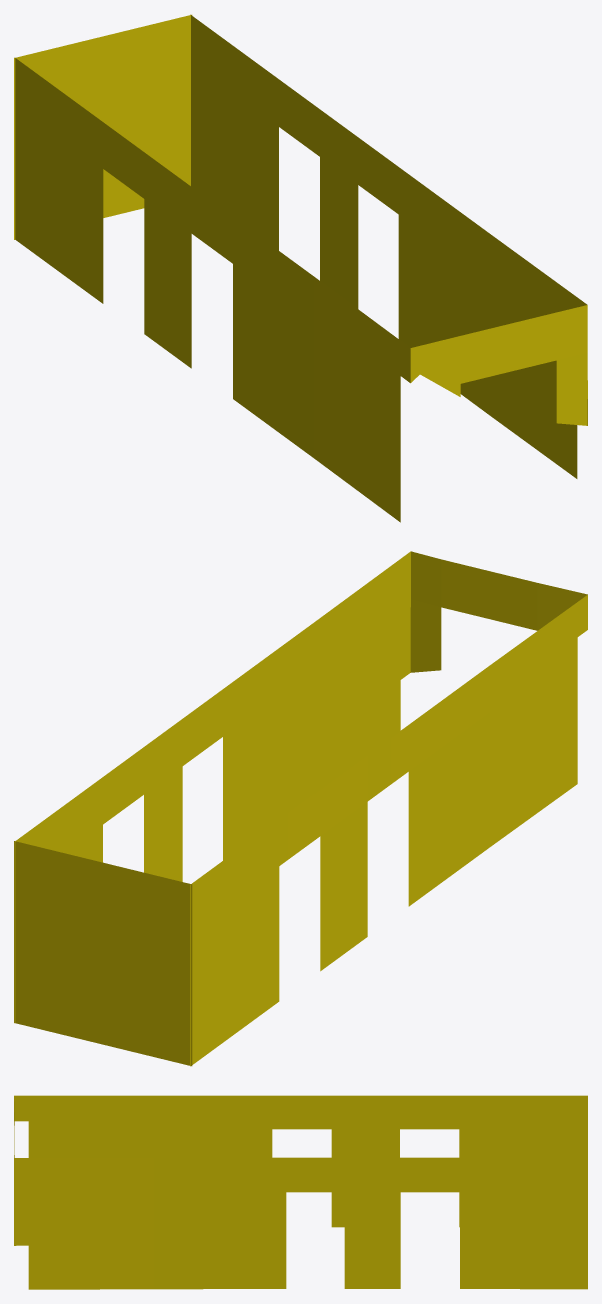
File: BH04_WP_02_Break.fbx
The picture shows the model from 3 angles, top to bottom: view 1: azimuth 30°, elevation 25°; view 2: azimuth 150°, elevation 25°; view 3: azimuth 270°, elevation 25°; orthographic projection. The views are drawn at different scales.
Parts seen in each view (by area): view 1: BH04_WP_02_Break; view 2: BH04_WP_02_Break; view 3: BH04_WP_02_Break.
Part boxes in pixels (bbox=[...]): BH04_WP_02_Break: bbox=[14, 14, 587, 522]; BH04_WP_02_Break: bbox=[14, 551, 587, 1066]; BH04_WP_02_Break: bbox=[14, 1095, 587, 1289].
Size of the model in its own units: 308 by 300 by 1186.
